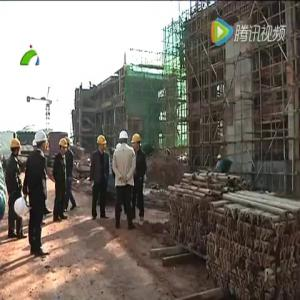white: (35, 130, 47, 152), (119, 129, 129, 146)
yellow: (11, 137, 22, 158), (131, 132, 142, 150), (58, 138, 68, 155), (97, 135, 107, 152)
